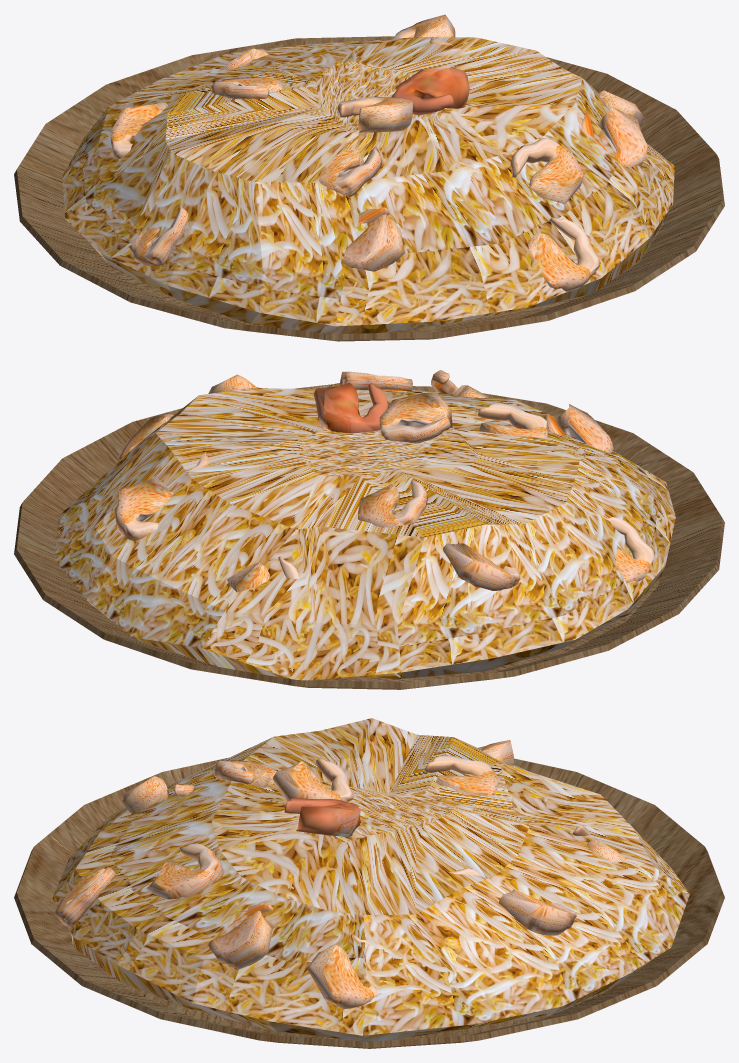
Rendered from hookdish.glb.
The picture shows the model from 3 angles, top to bottom: view 1: azimuth 30°, elevation 25°; view 2: azimuth 150°, elevation 25°; view 3: azimuth 270°, elevation 25°; orthographic projection.
Visible parts, largest first — view 1: Cylinder.001, Cylinder.002, Cylinder.013, Cylinder.012; view 2: Cylinder.001, Cylinder.002, Cylinder.013, Cylinder.012; view 3: Cylinder.001, Cylinder.002, Cylinder.013, Cylinder.012.
Boxes of the visible parts, x1,y1,x2,y2 form: Cylinder.001: [62, 37, 674, 333]; Cylinder.002: [14, 36, 724, 341]; Cylinder.013: [110, 14, 647, 293]; Cylinder.012: [391, 68, 469, 115]; Cylinder.001: [54, 383, 675, 680]; Cylinder.002: [14, 384, 724, 689]; Cylinder.013: [114, 370, 655, 592]; Cylinder.012: [313, 382, 388, 433]; Cylinder.001: [52, 718, 689, 1041]; Cylinder.002: [14, 757, 724, 1048]; Cylinder.013: [54, 740, 626, 1009]; Cylinder.012: [284, 798, 360, 837].
Bounding box in the file's own units: 1.14 × 0.2574 × 1.14.
3 materials, 3 textured.
